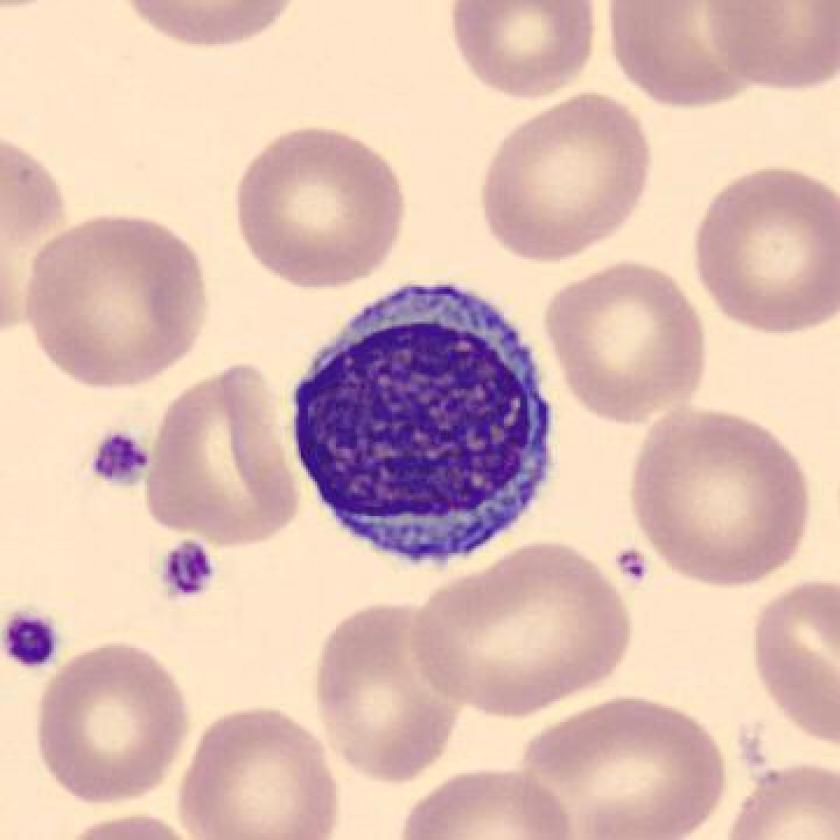lymphocyte: (284, 263, 571, 587)
platelets: (160, 532, 220, 609), (1, 605, 62, 671), (88, 430, 150, 493), (610, 542, 658, 592)
